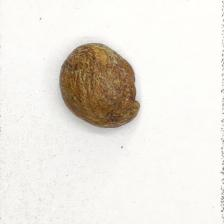NG: (76, 43, 121, 74), (126, 69, 141, 110)
